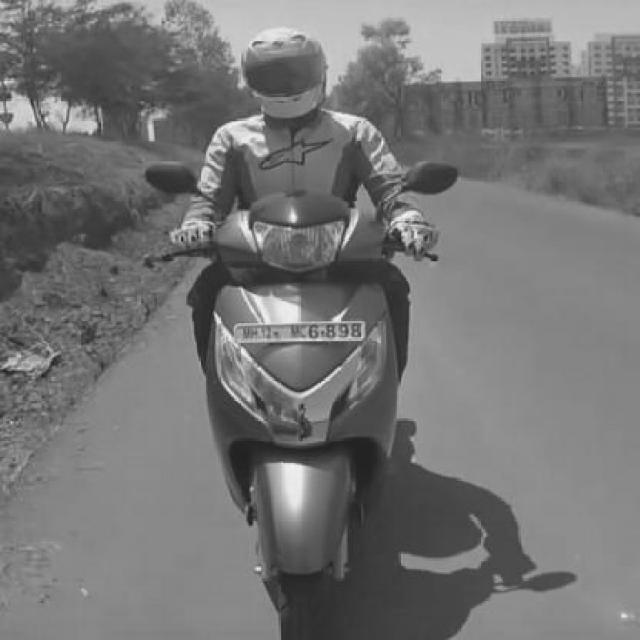Motorbike: (145, 28, 459, 640)
